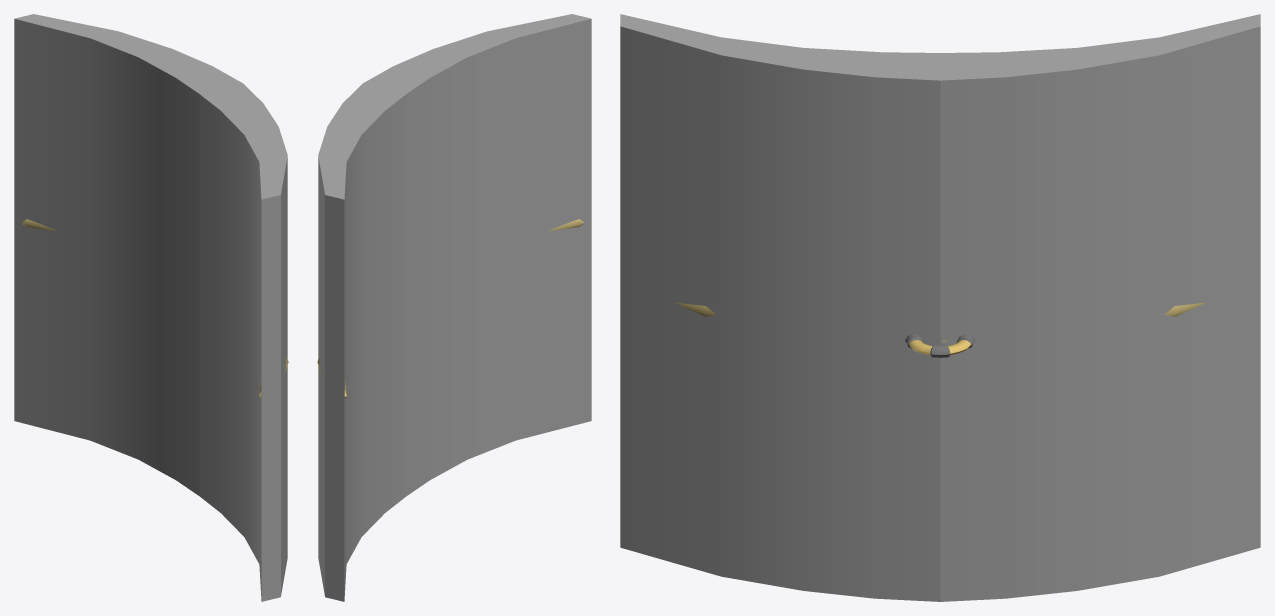
The model's file is ShieldTusks.fbx.
3 renders of one model, left to right at view 1: azimuth 30°, elevation 25°; view 2: azimuth 150°, elevation 25°; view 3: azimuth 270°, elevation 25°, orthographic. The views are drawn at different scales.
Parts seen in each view (by area): view 1: Shield_Col; view 2: Shield_Col; view 3: Shield_Col, Shield.
Part boxes in pixels (x1,y1,x2,y2): Shield_Col: (14,14,287,601); Shield_Col: (318,14,591,601); Shield_Col: (620,14,1260,601); Shield: (674,302,1206,357).
Bounding box in the file's own units: 55.85 × 169 × 188.
Materials: 2 (1 with a texture image).
